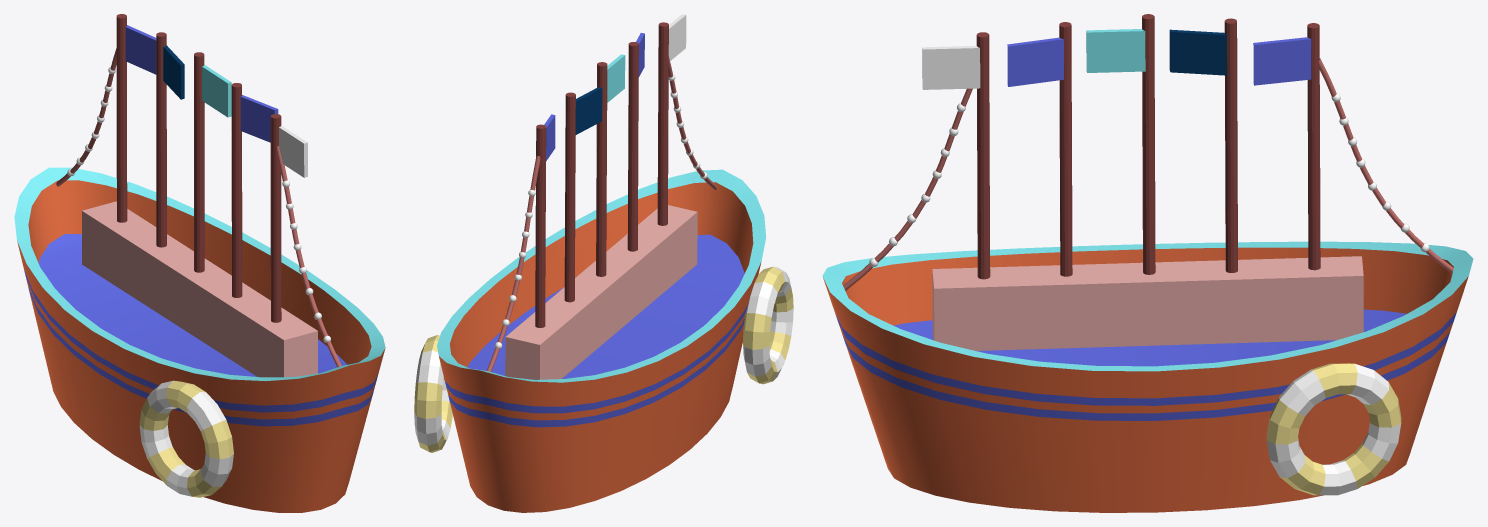
File: boat_2.fbx
3 views of the same model, side by side, from view 1: azimuth 30°, elevation 25°; view 2: azimuth 150°, elevation 25°; view 3: azimuth 270°, elevation 25° (orthographic). The views are drawn at different scales.
Visible parts, largest first — view 1: boat_2; view 2: boat_2; view 3: boat_2.
Boxes of the visible parts, x1,y1,x2,y2 form: boat_2: (14, 14, 385, 512); boat_2: (414, 14, 793, 512); boat_2: (822, 14, 1473, 512).
Bounding box in the file's own units: 347 × 536 × 710.
